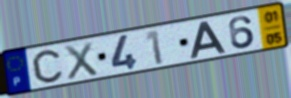1: (145, 28, 165, 66)
4: (110, 33, 142, 72)
6: (227, 15, 257, 50)
A: (189, 20, 228, 60)
C: (30, 48, 65, 84)
X: (62, 40, 100, 82)
